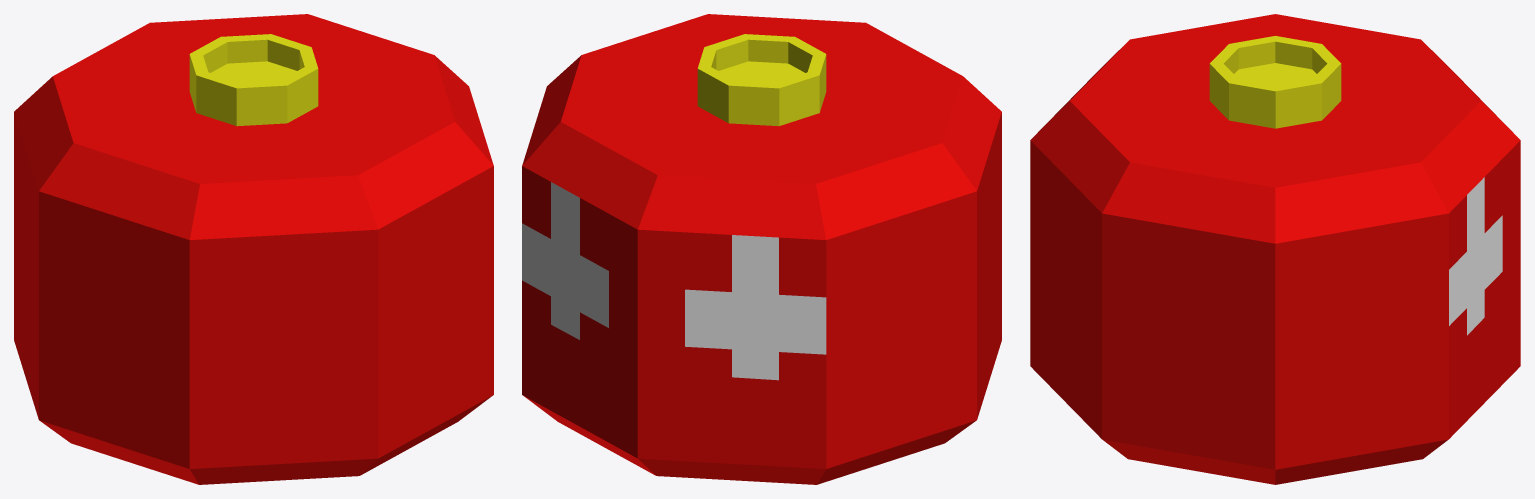
Rendered from christmas decoration.002.fbx.
3 renders of one model, left to right at view 1: azimuth 30°, elevation 25°; view 2: azimuth 150°, elevation 25°; view 3: azimuth 270°, elevation 25°, orthographic.
Parts seen in each view (by area): view 1: christmas decoration.002; view 2: christmas decoration.002; view 3: christmas decoration.002.
Part boxes in pixels (bbox=[...]): christmas decoration.002: bbox=[14, 14, 493, 484]; christmas decoration.002: bbox=[522, 14, 1001, 484]; christmas decoration.002: bbox=[1030, 14, 1520, 484].
Bounding box in the file's own units: 85.89 × 64.39 × 85.89.
